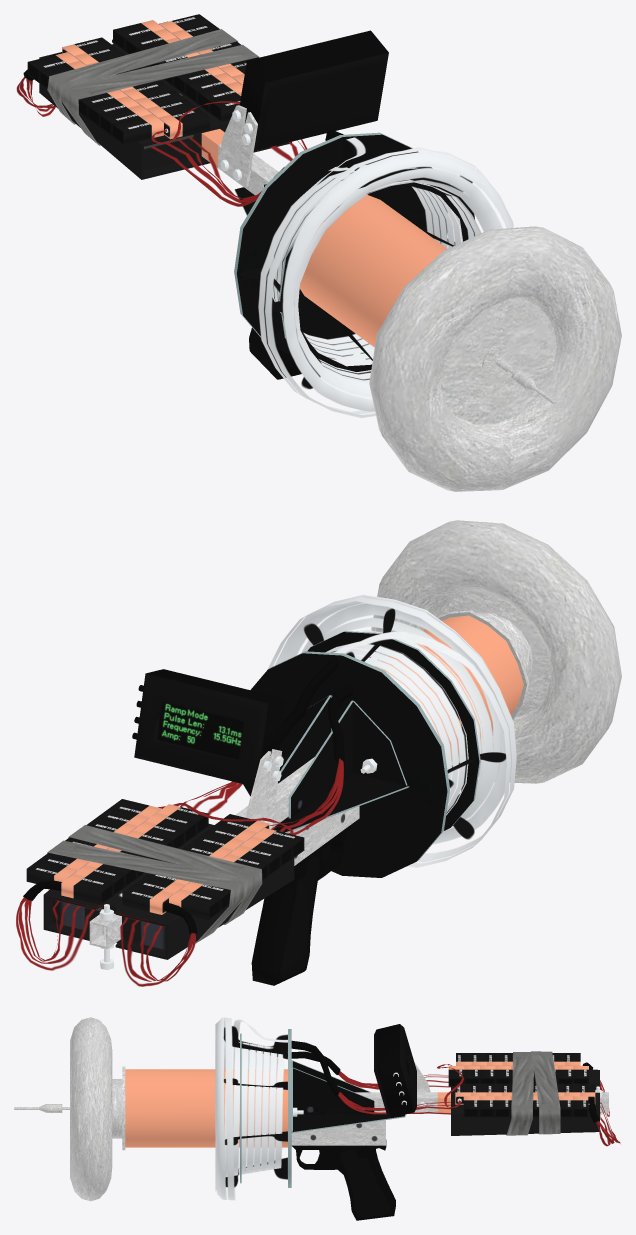
File: tesla-coil-gun.glb
3 views of the same model, one above another, from view 1: azimuth 30°, elevation 25°; view 2: azimuth 150°, elevation 25°; view 3: azimuth 270°, elevation 25° (orthographic). The views are drawn at different scales.
Visible parts, largest first — view 1: Object_3; view 2: Object_3; view 3: Object_3.
Part boxes in pixels (left/top/right/bottom): Object_3: left=16, top=14, right=621, bottom=491; Object_3: left=16, top=520, right=621, bottom=986; Object_3: left=14, top=1017, right=620, bottom=1220.
Bounding box in the file's own units: 0.183 × 0.2088 × 0.6.
1 material, 1 textured.
